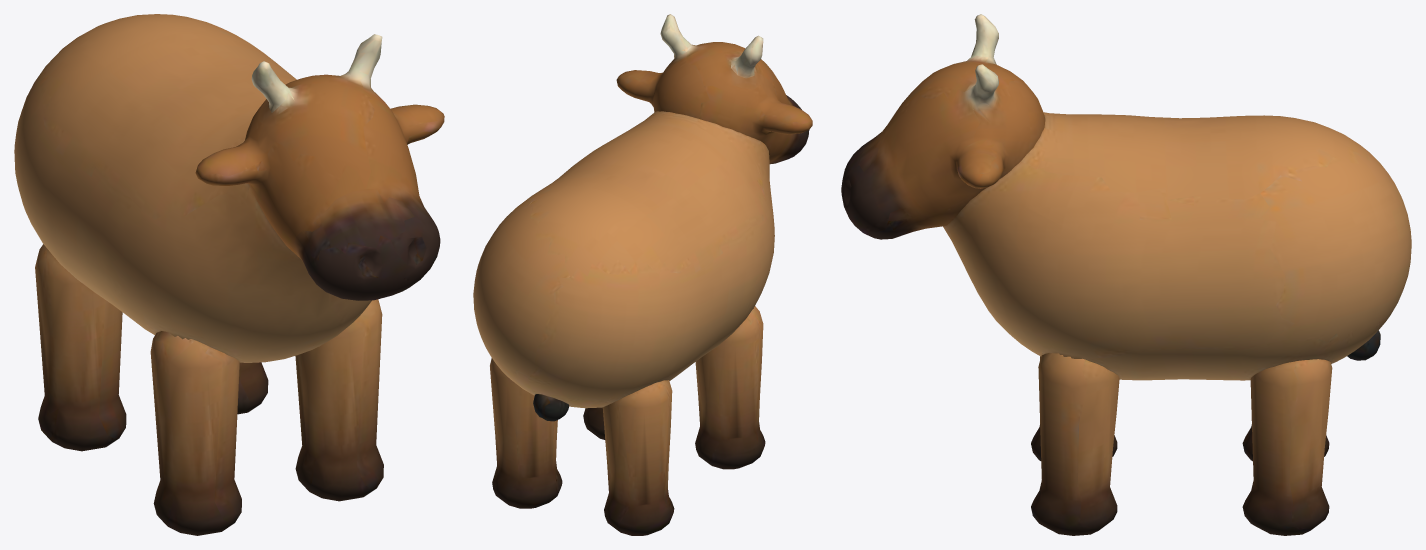
The model's file is animal_jersey_cow.glb.
3 views of the same model, side by side, from view 1: azimuth 30°, elevation 25°; view 2: azimuth 150°, elevation 25°; view 3: azimuth 270°, elevation 25° (orthographic). The views are drawn at different scales.
Visible parts, largest first — view 1: animal_jersey_cow, head, leg0, leg2, leg1, leg3; view 2: animal_jersey_cow, head, leg2, leg0, leg3, tail, leg1; view 3: animal_jersey_cow, head, leg1, leg3.
Part boxes in pixels (x1,y1,x2,y2): animal_jersey_cow: (14, 14, 371, 362); head: (195, 34, 444, 300); leg0: (150, 331, 241, 535); leg2: (35, 244, 126, 451); leg1: (295, 299, 383, 501); leg3: (237, 362, 268, 414); animal_jersey_cow: (473, 111, 774, 408); head: (616, 14, 812, 164); leg2: (602, 380, 674, 535); leg0: (695, 306, 765, 469); leg3: (490, 358, 562, 508); tail: (533, 394, 568, 421); leg1: (583, 407, 605, 439); animal_jersey_cow: (943, 112, 1411, 380); head: (841, 14, 1045, 239); leg1: (1031, 353, 1119, 535); leg3: (1242, 359, 1332, 535).
Bounding box in the file's own units: 0.3134 × 0.5764 × 0.6467.
Materials: 1 (1 with a texture image).
